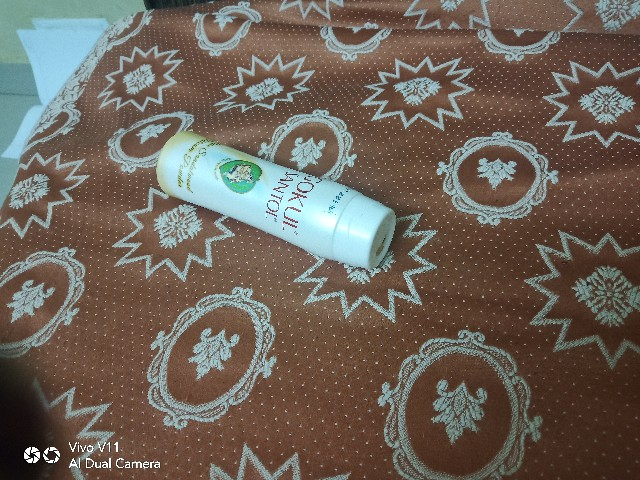gokulsantol big: (147, 120, 406, 272)
